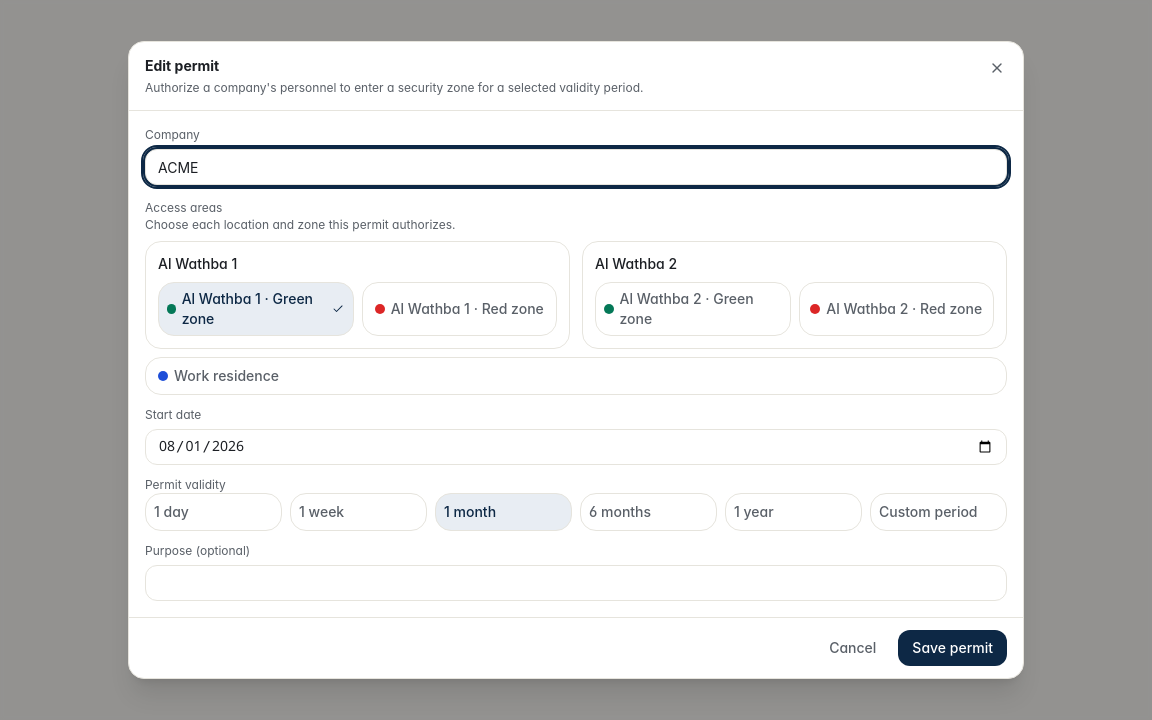
keeps Save disabled with a blank company and sends no edit request
This screenshot has width=1152, height=720.
Clear the field labelled "Company": (576, 167) x1=145 y1=149 x2=1007 y2=185
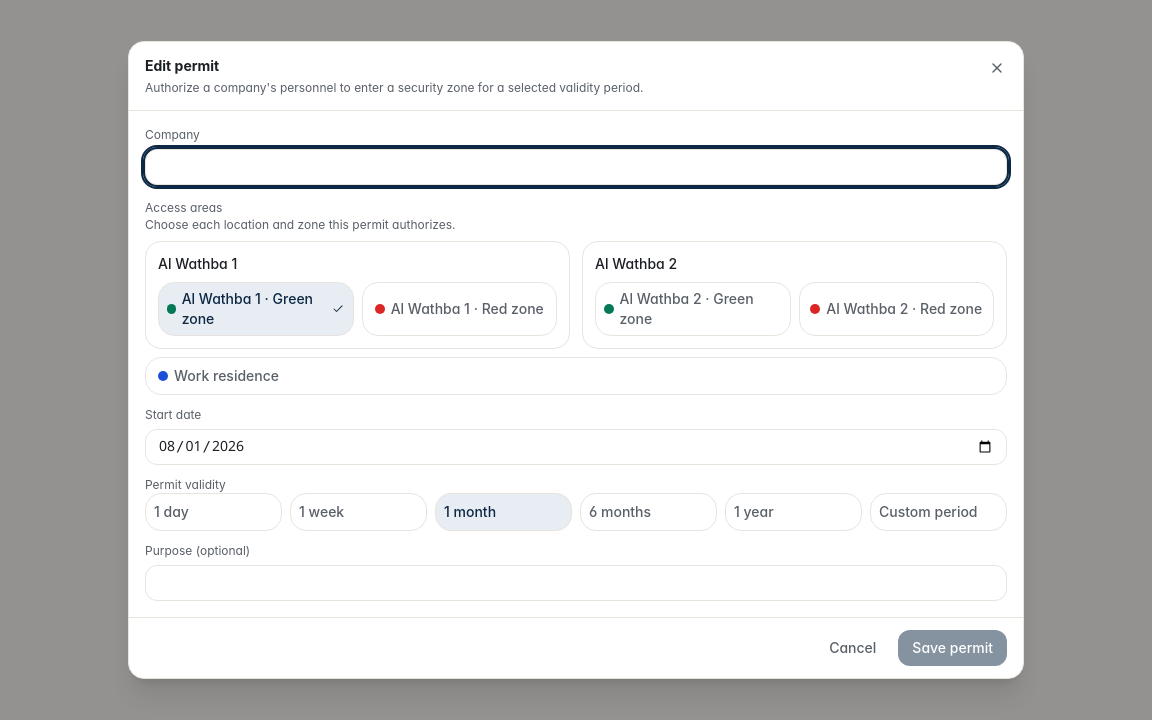
expect the button "Save permit" is disabled: met, box x1=898 y1=630 x2=1007 y2=666
